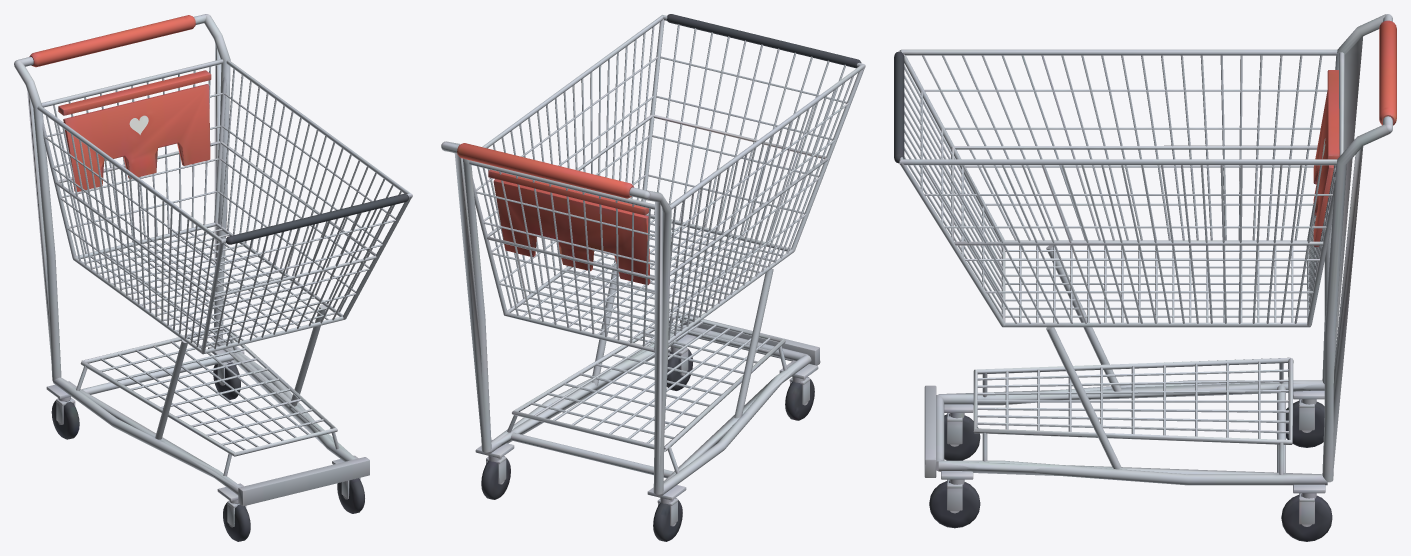
File: g3d_shopping_cart.glb
The picture shows the model from 3 angles, left to right: view 1: azimuth 30°, elevation 25°; view 2: azimuth 150°, elevation 25°; view 3: azimuth 270°, elevation 25°; orthographic projection. The views are drawn at different scales.
Parts seen in each view (by area): view 1: shopping-cart_body, shopping-cart_body_lo; view 2: shopping-cart_body, shopping-cart_body_lo; view 3: shopping-cart_body, shopping-cart_body_lo.
Boxes of the visible parts, x1,y1,x2,y2 form: shopping-cart_body: (14, 14, 412, 541); shopping-cart_body_lo: (27, 43, 400, 488); shopping-cart_body: (441, 14, 865, 541); shopping-cart_body_lo: (444, 27, 852, 525); shopping-cart_body: (894, 14, 1396, 541); shopping-cart_body_lo: (904, 36, 1374, 526).
Size of the model in its own units: 0.584 by 1.02 by 1.08.
Materials: 1 (1 with a texture image).
